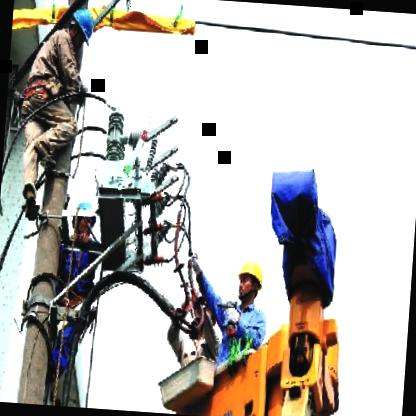helmet: (63, 6, 103, 52), (234, 255, 265, 306), (69, 188, 98, 242)
